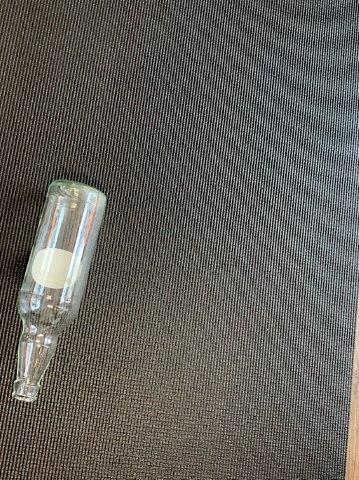botolkaca: (11, 181, 109, 404)
